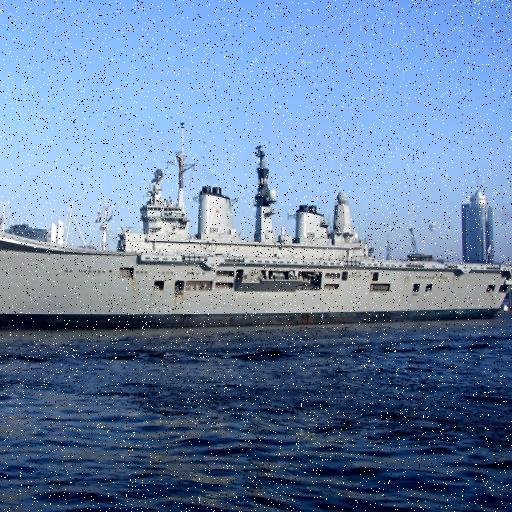Portanaves: (1, 107, 512, 339)
